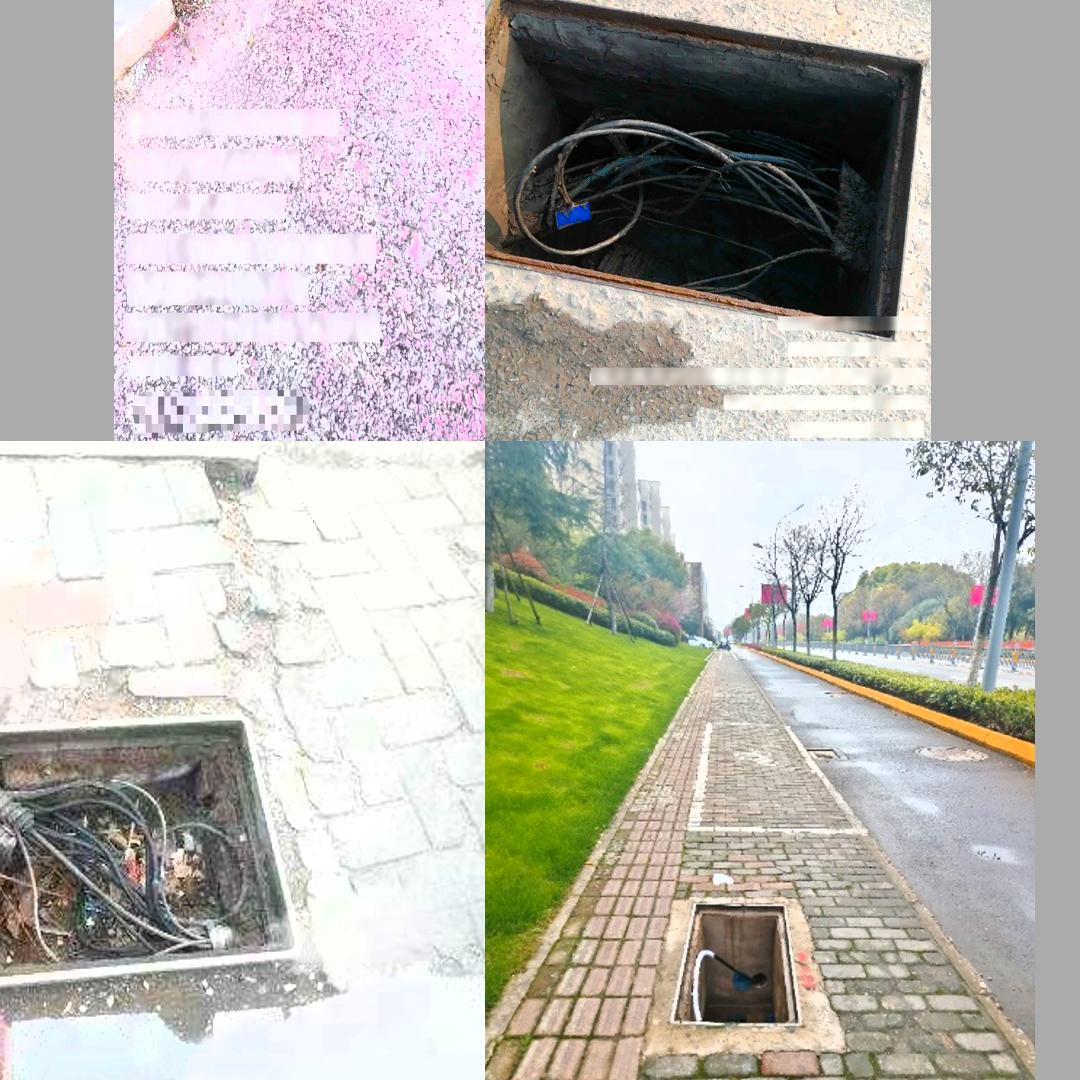lose: (485, 0, 924, 282), (0, 705, 272, 1001), (668, 900, 802, 1024), (151, 0, 418, 2)
